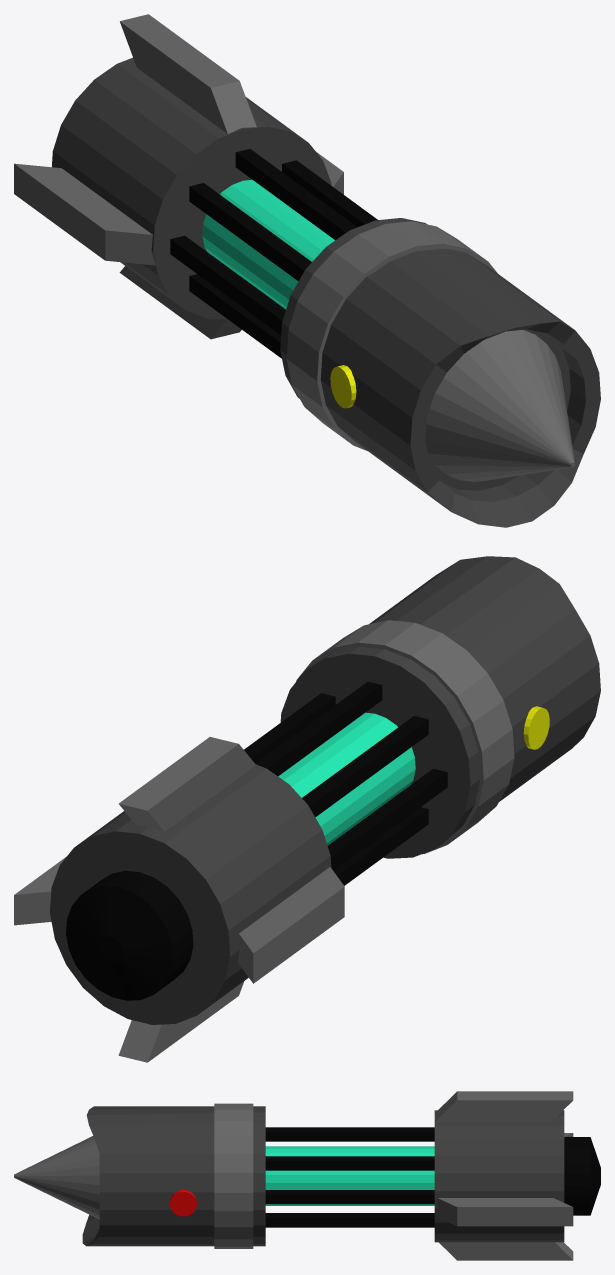
The model's file is missile.glb.
3 views of the same model, one above another, from view 1: azimuth 30°, elevation 25°; view 2: azimuth 150°, elevation 25°; view 3: azimuth 270°, elevation 25° (orthographic). The views are drawn at different scales.
Visible parts, largest first — view 1: Cylinder.007; view 2: Cylinder.007; view 3: Cylinder.007.
Part boxes in pixels (x1,y1,x2,y2): Cylinder.007: (14,14,600,527); Cylinder.007: (14,556,600,1062); Cylinder.007: (14,1091,600,1260).
Size of the model in its own units: 1.65 by 1.66 by 5.51.
